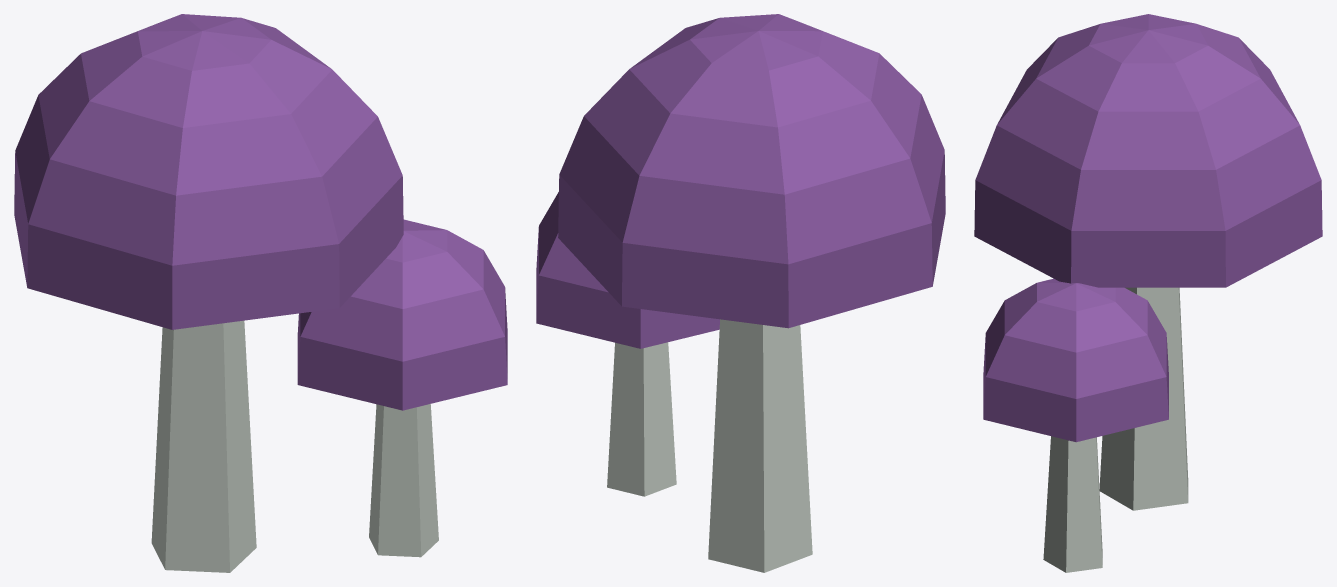
Rendered from swamp_mushroom.glb.
3 renders of one model, left to right at view 1: azimuth 30°, elevation 25°; view 2: azimuth 150°, elevation 25°; view 3: azimuth 270°, elevation 25°, orthographic. The views are drawn at different scales.
Parts seen in each view (by area): view 1: n3, n7, n1, n5; view 2: n3, n1, n7, n5; view 3: n3, n7, n1, n5.
Boxes of the visible parts, bbox=[...] form: n3: bbox=[14, 14, 403, 329]; n7: bbox=[297, 219, 507, 410]; n1: bbox=[151, 320, 256, 572]; n5: bbox=[369, 404, 438, 557]; n3: bbox=[558, 14, 945, 328]; n1: bbox=[708, 319, 812, 572]; n7: bbox=[536, 192, 719, 348]; n5: bbox=[607, 342, 676, 496]; n3: bbox=[974, 14, 1322, 287]; n7: bbox=[983, 278, 1168, 442]; n1: bbox=[1099, 287, 1188, 510]; n5: bbox=[1043, 436, 1102, 572].
Size of the model in its own units: 1.64 by 1.86 by 1.28.
